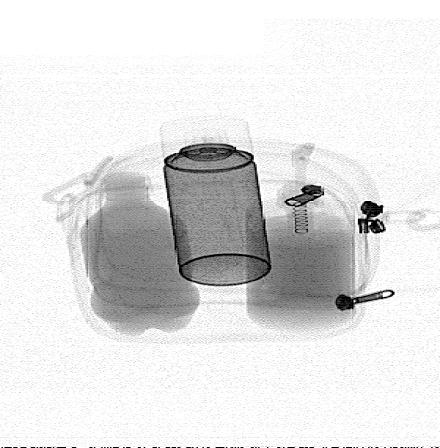Sprayer: (159, 117, 272, 287)
